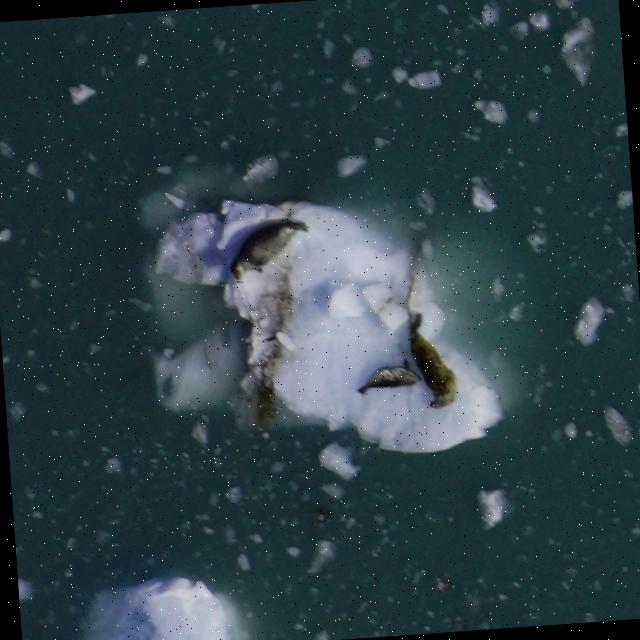seal: (223, 216, 318, 282), (404, 307, 460, 412), (352, 355, 424, 397)
